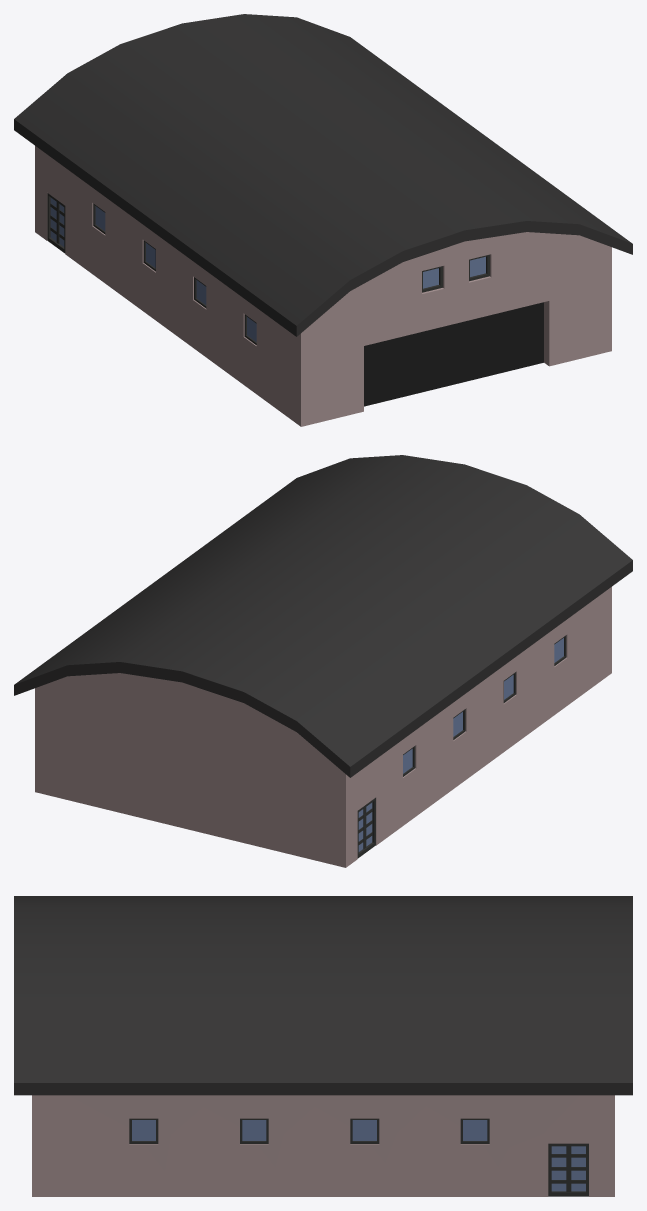
The model's file is FactoryBuilding_05.fbx.
The picture shows the model from 3 angles, top to bottom: view 1: azimuth 30°, elevation 25°; view 2: azimuth 150°, elevation 25°; view 3: azimuth 270°, elevation 25°; orthographic projection. The views are drawn at different scales.
Parts seen in each view (by area): view 1: FactoryBuilding_05; view 2: FactoryBuilding_05; view 3: FactoryBuilding_05.
Part boxes in pixels (x1,y1,x2,y2): FactoryBuilding_05: (14,14,632,426); FactoryBuilding_05: (14,455,632,867); FactoryBuilding_05: (14,896,632,1196).
Size of the model in its own units: 18.77 by 8.79 by 27.32.
